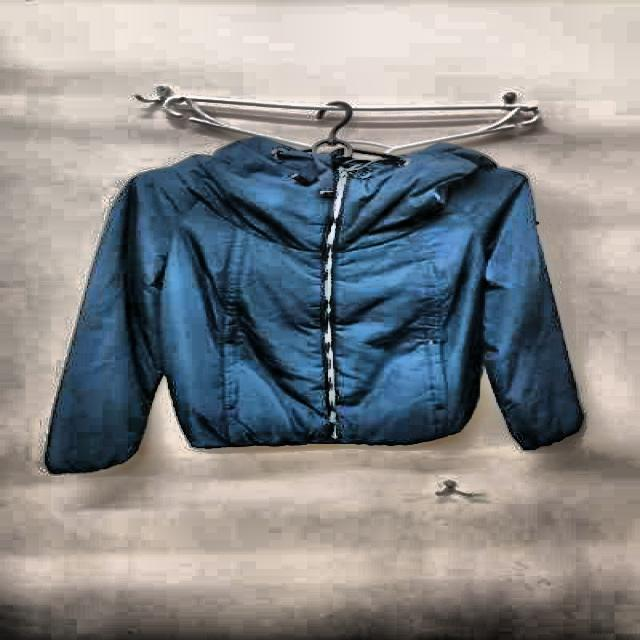clothes: (42, 132, 584, 482)
